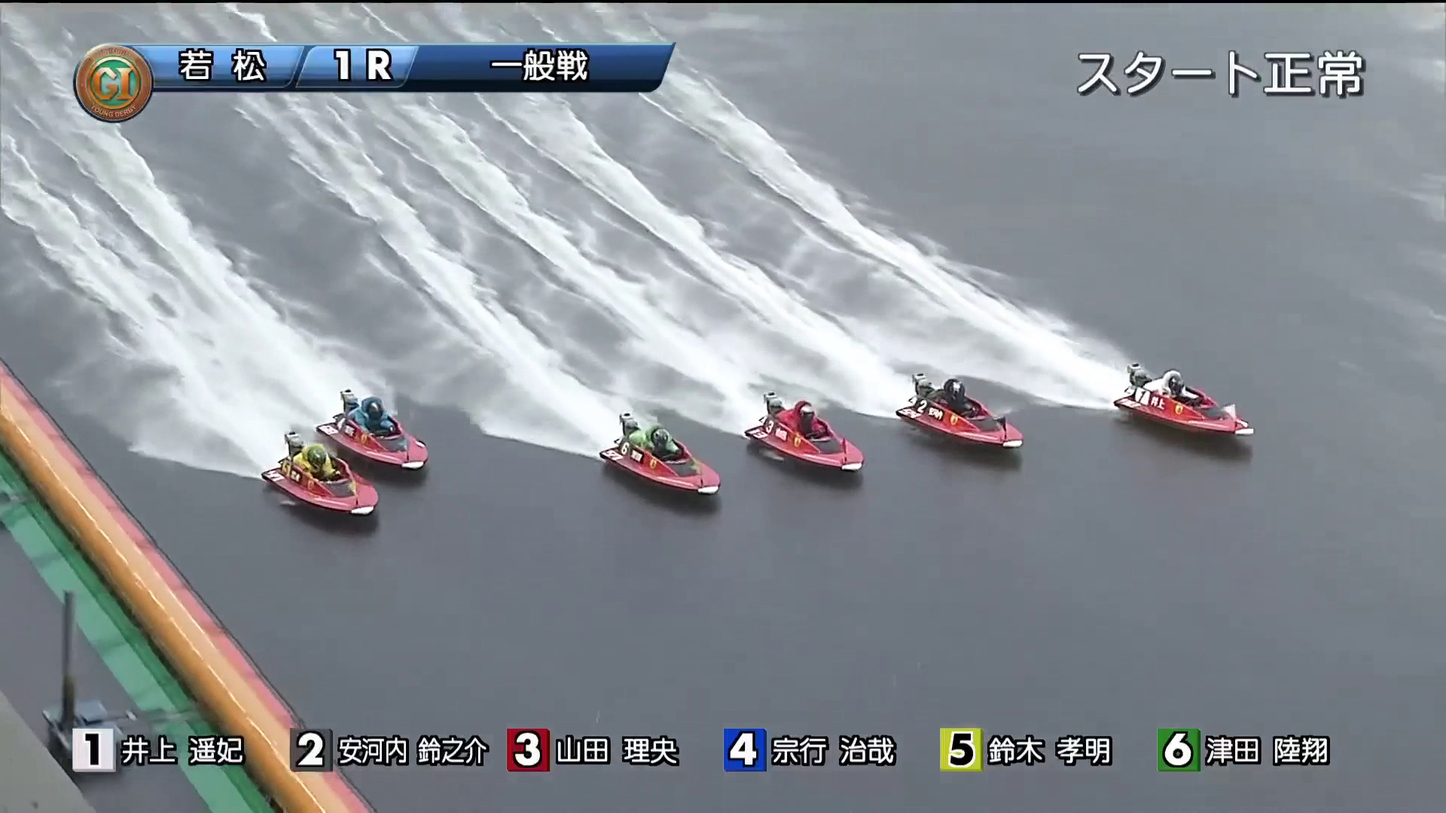１号艇: (1127, 363, 1245, 412)
２号艇: (909, 378, 1023, 429)
３号艇: (761, 425, 883, 467)
４号艇: (625, 442, 739, 499)
５号艇: (337, 417, 460, 473)
６号艇: (309, 487, 409, 544)
